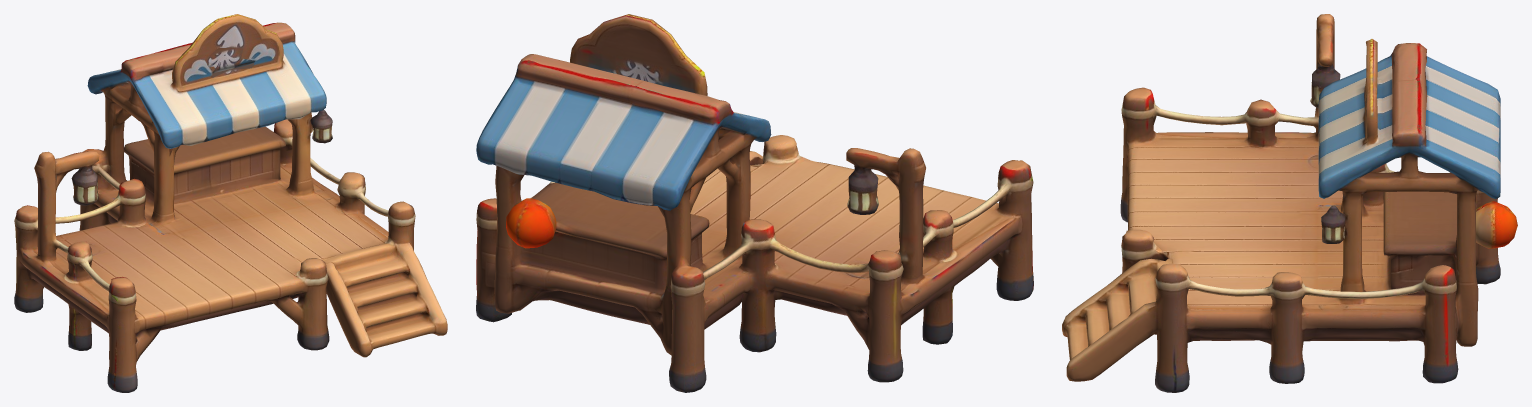
Rendered from squid-dock2.glb.
3 renders of one model, left to right at view 1: azimuth 30°, elevation 25°; view 2: azimuth 150°, elevation 25°; view 3: azimuth 270°, elevation 25°, orthographic. The views are drawn at different scales.
Parts seen in each view (by area): view 1: tripo_node_87e114dc-6309-4b78-a518-c23e290b78e9; view 2: tripo_node_87e114dc-6309-4b78-a518-c23e290b78e9; view 3: tripo_node_87e114dc-6309-4b78-a518-c23e290b78e9.
Boxes of the visible parts, <box> form: tripo_node_87e114dc-6309-4b78-a518-c23e290b78e9: <box>14,14,447,392</box>; tripo_node_87e114dc-6309-4b78-a518-c23e290b78e9: <box>476,14,1033,392</box>; tripo_node_87e114dc-6309-4b78-a518-c23e290b78e9: <box>1062,14,1517,392</box>.
Size of the model in its own units: 0.9197 by 0.6925 by 0.9747.
1 material, 1 textured.
